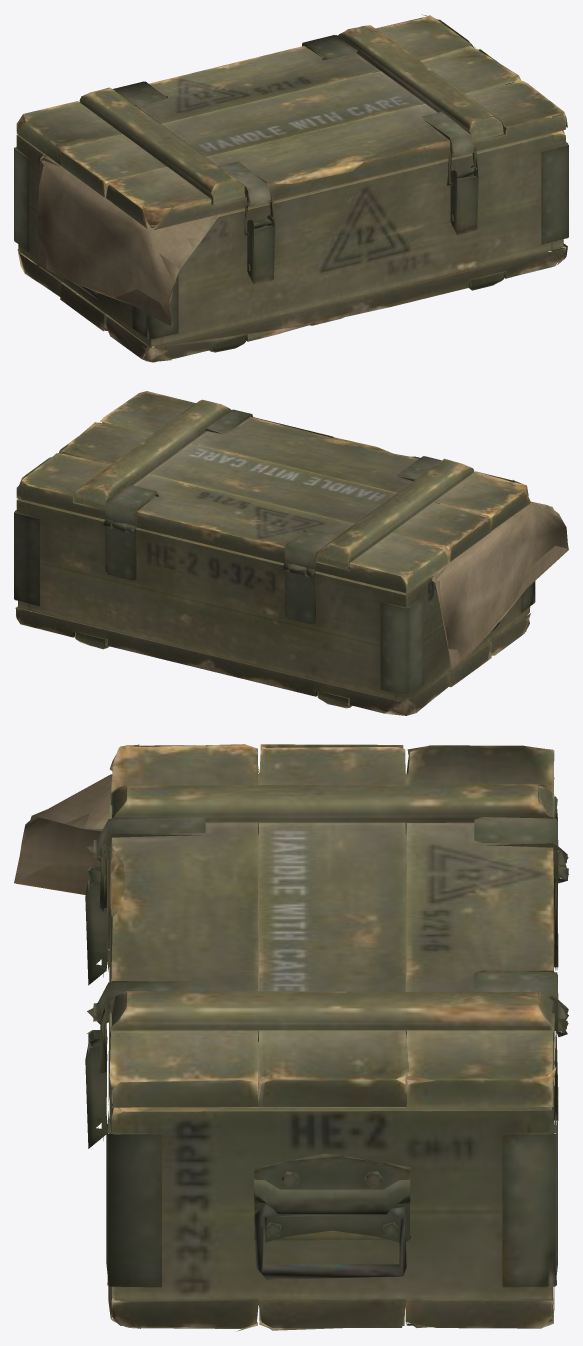
File: old_military_crate.glb
3 renders of one model, top to bottom at view 1: azimuth 30°, elevation 25°; view 2: azimuth 150°, elevation 25°; view 3: azimuth 270°, elevation 25°, orthographic. The views are drawn at different scales.
Visible parts, largest first — view 1: old_military_crate_lid_a; view 2: old_military_crate_lid_a; view 3: old_military_crate_lid_a.
Boxes of the visible parts, x1,y1,x2,y2 form: old_military_crate_lid_a: (14, 14, 568, 362); old_military_crate_lid_a: (14, 391, 568, 715); old_military_crate_lid_a: (14, 744, 568, 1331).
Size of the model in its own units: 0.8138 by 0.3002 by 0.5383.
Materials: 1 (1 with a texture image).
